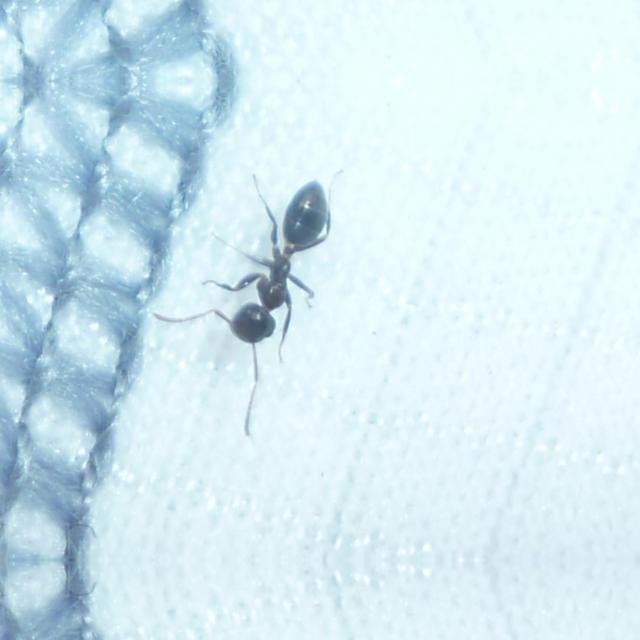Colobopsis: (182, 174, 360, 378)
